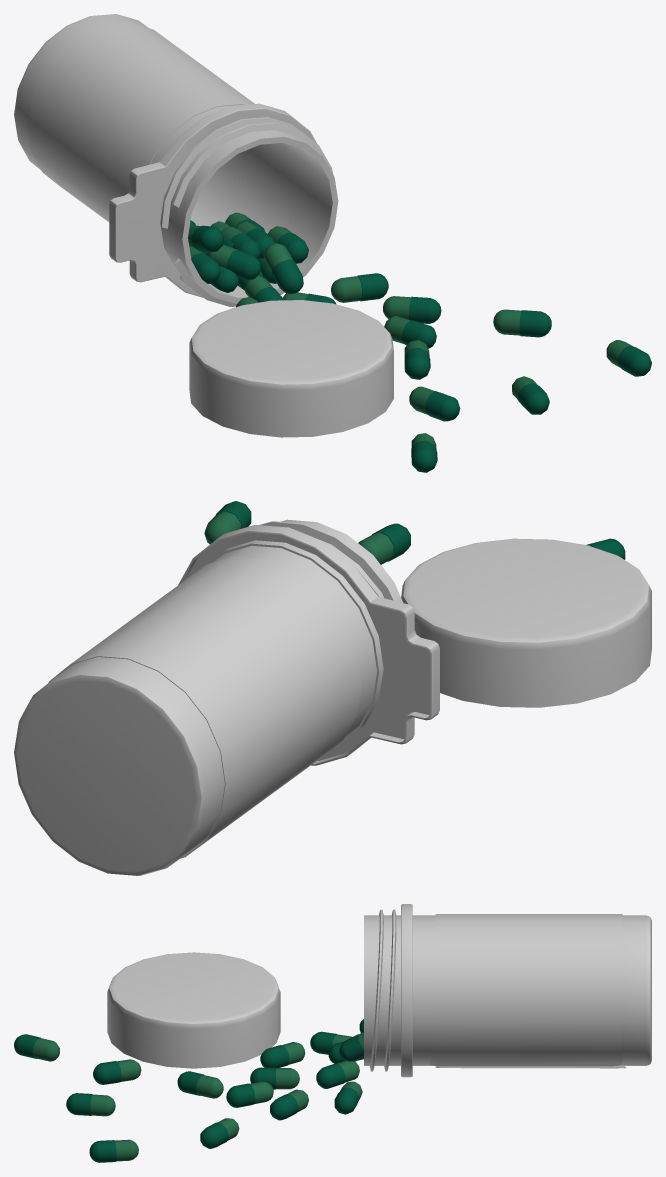
File: pills_scattered.fbx
The picture shows the model from 3 angles, top to bottom: view 1: azimuth 30°, elevation 25°; view 2: azimuth 150°, elevation 25°; view 3: azimuth 270°, elevation 25°; orthographic projection. The views are drawn at different scales.
Parts seen in each view (by area): view 1: polySurface1121; view 2: polySurface1121; view 3: polySurface1121.
Part boxes in pixels (x1=…): polySurface1121: x1=14, y1=14, x2=651, y2=472; polySurface1121: x1=14, y1=501, x2=651, y2=875; polySurface1121: x1=14, y1=904, x2=651, y2=1162.
Size of the model in its own units: 0.1128 by 0.0519 by 0.1886.
